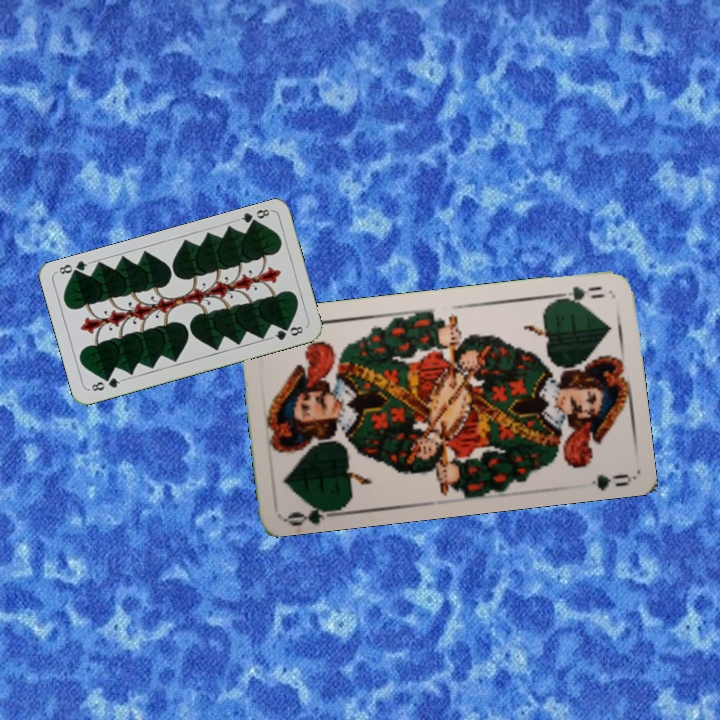G8: (234, 203, 273, 229), (85, 373, 125, 394)
GO: (283, 498, 343, 527), (550, 282, 608, 307)
